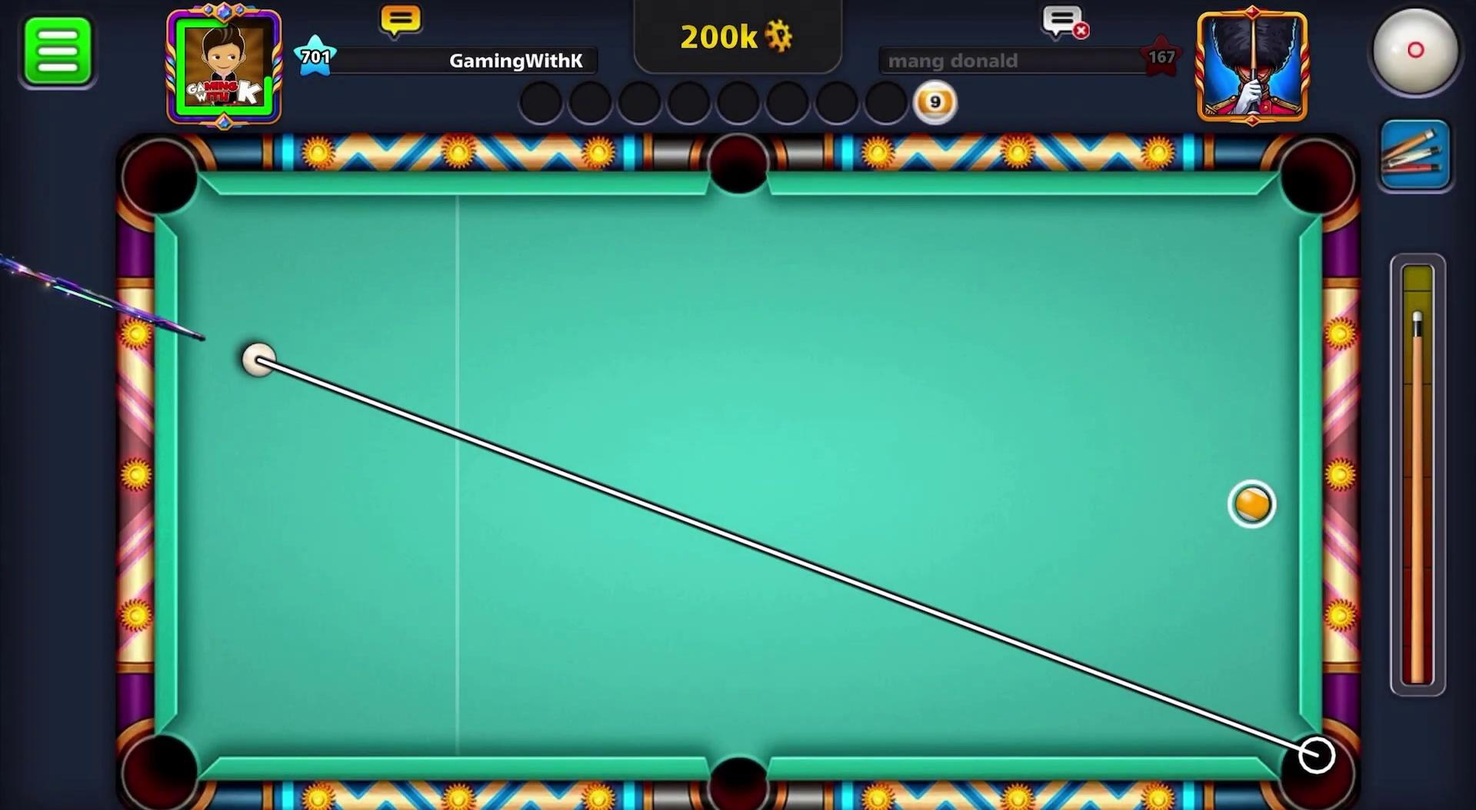Force: (1385, 259, 1452, 705)
Guideline: (257, 345, 1321, 767)
Hole: (108, 125, 217, 234), (1268, 128, 1366, 231), (111, 720, 211, 809), (1268, 721, 1359, 810), (685, 738, 788, 809), (699, 128, 778, 206)
Play_Area: (179, 193, 1292, 756)
Spin: (1345, 0, 1475, 112)
White: (233, 331, 280, 385)
